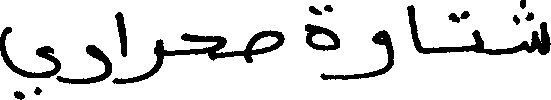ا: (404, 2, 424, 54), (115, 9, 127, 59)
ة: (303, 2, 340, 53)
ت: (446, 11, 485, 54)
ح: (180, 31, 226, 62)
ر: (125, 34, 163, 84)
ش: (507, 0, 549, 55)
ص: (244, 28, 283, 64)
و: (337, 28, 393, 81), (58, 43, 111, 85)
ي: (0, 25, 61, 99)
